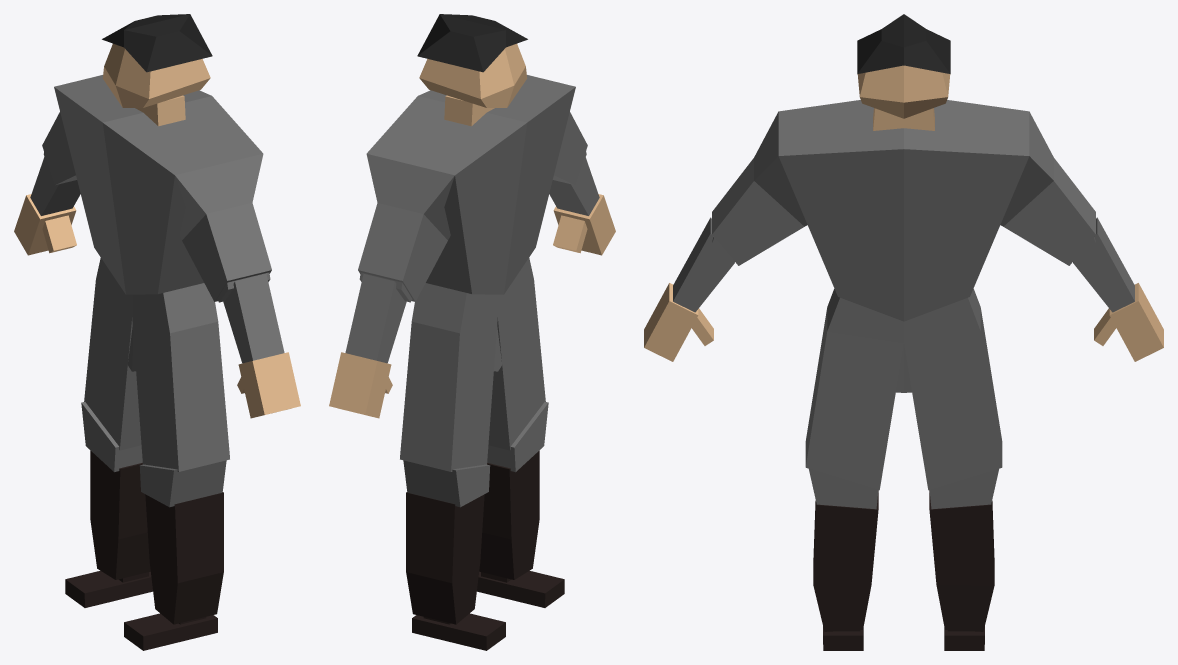
Rendered from player_noanim.fbx.
The picture shows the model from 3 angles, left to right: view 1: azimuth 30°, elevation 25°; view 2: azimuth 150°, elevation 25°; view 3: azimuth 270°, elevation 25°; orthographic projection. The views are drawn at different scales.
Visible parts, largest first — view 1: Cube.007; view 2: Cube.007; view 3: Cube.007.
Boxes of the visible parts, x1,y1,x2,y2 form: Cube.007: (14, 14, 300, 650); Cube.007: (329, 14, 615, 650); Cube.007: (644, 14, 1163, 650).
Bounding box in the file's own units: 34.92 × 179 × 139.
